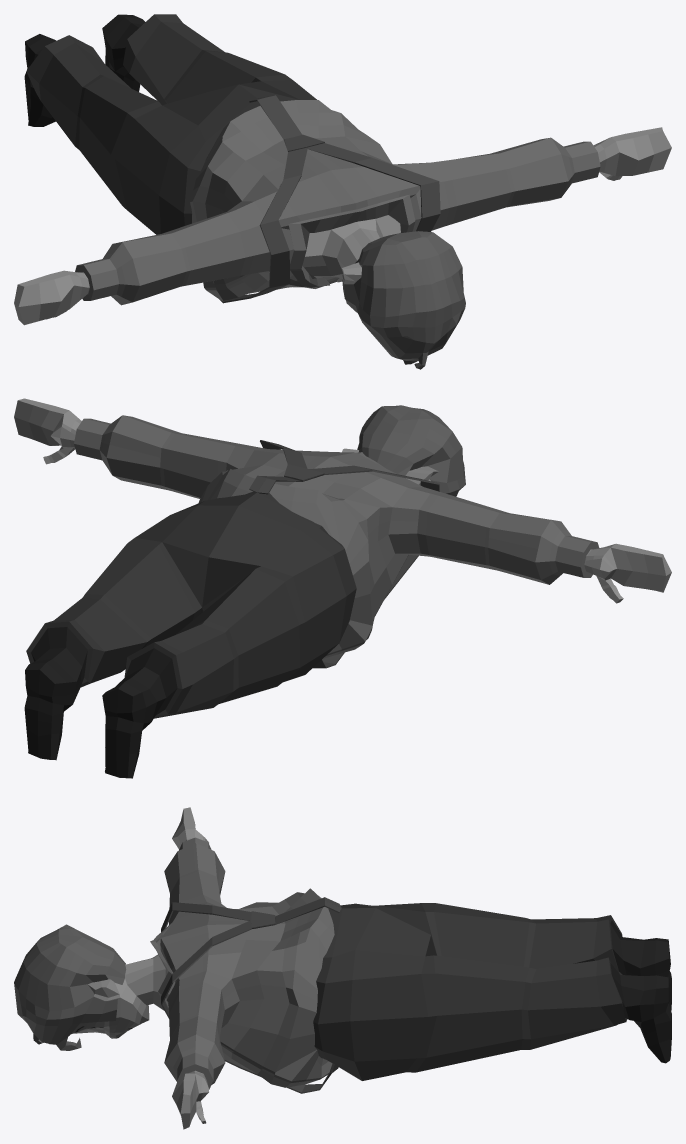
Rendered from DougExport.fbx.
3 renders of one model, top to bottom at view 1: azimuth 30°, elevation 25°; view 2: azimuth 150°, elevation 25°; view 3: azimuth 270°, elevation 25°, orthographic. The views are drawn at different scales.
Parts seen in each view (by area): view 1: Shirt, Pants, Head, Suspenders, Hands; view 2: Pants, Shirt, Head, Hands, Suspenders; view 3: Pants, Shirt, Head, Suspenders, Hands.
Part boxes in pixels (x1,y1,x2,y2): Shirt: [75, 100, 600, 305]; Pants: [24, 14, 316, 234]; Head: [302, 215, 465, 369]; Suspenders: [219, 95, 440, 303]; Hands: [14, 127, 671, 325]; Pants: [24, 491, 356, 778]; Shirt: [74, 415, 599, 658]; Head: [342, 405, 465, 496]; Hands: [14, 398, 671, 603]; Suspenders: [249, 440, 439, 668]; Pants: [313, 903, 671, 1080]; Shirt: [150, 837, 334, 1089]; Head: [14, 924, 174, 1050]; Suspenders: [161, 897, 341, 1093]; Hands: [172, 807, 208, 1129].
Bounding box in the file's own units: 945 × 253 × 899.
1 material, 1 textured.
